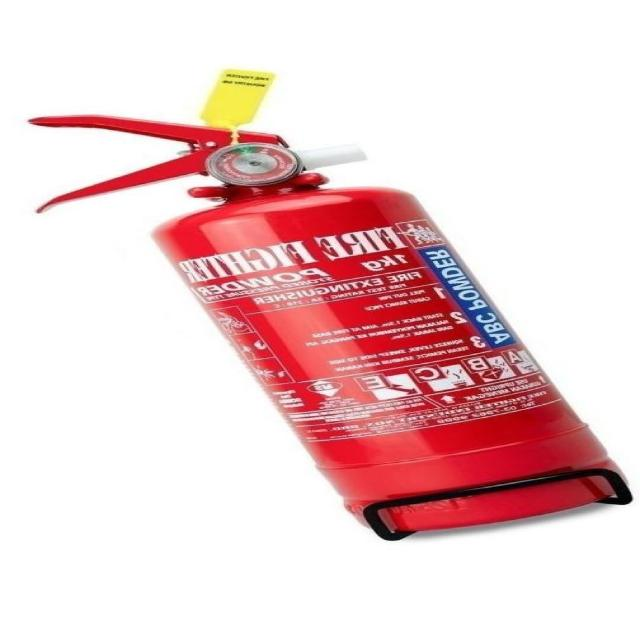fire_extinguisher: (24, 59, 639, 548)
